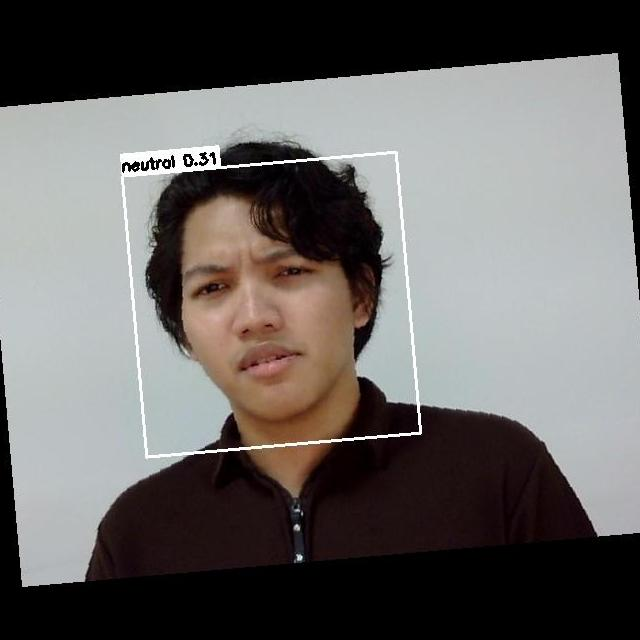Fear: (167, 239, 361, 408)
